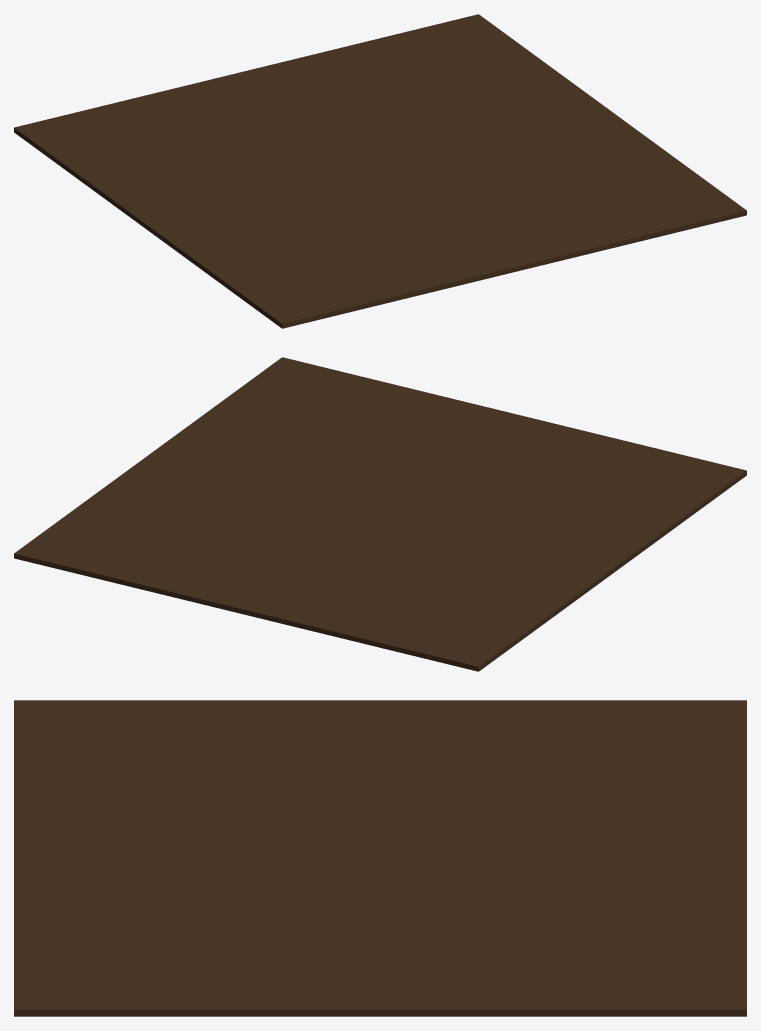
Rendered from Ceiling_Main_Hall.fbx.
3 views of the same model, one above another, from view 1: azimuth 30°, elevation 25°; view 2: azimuth 150°, elevation 25°; view 3: azimuth 270°, elevation 25° (orthographic). The views are drawn at different scales.
Visible parts, largest first — view 1: Cube.007; view 2: Cube.007; view 3: Cube.007.
Part boxes in pixels (box(x1,y1,x2,y2)): Cube.007: box(14, 14, 746, 328); Cube.007: box(14, 357, 746, 671); Cube.007: box(14, 700, 746, 1016).
Size of the model in its own units: 1000 by 10 by 1000.
